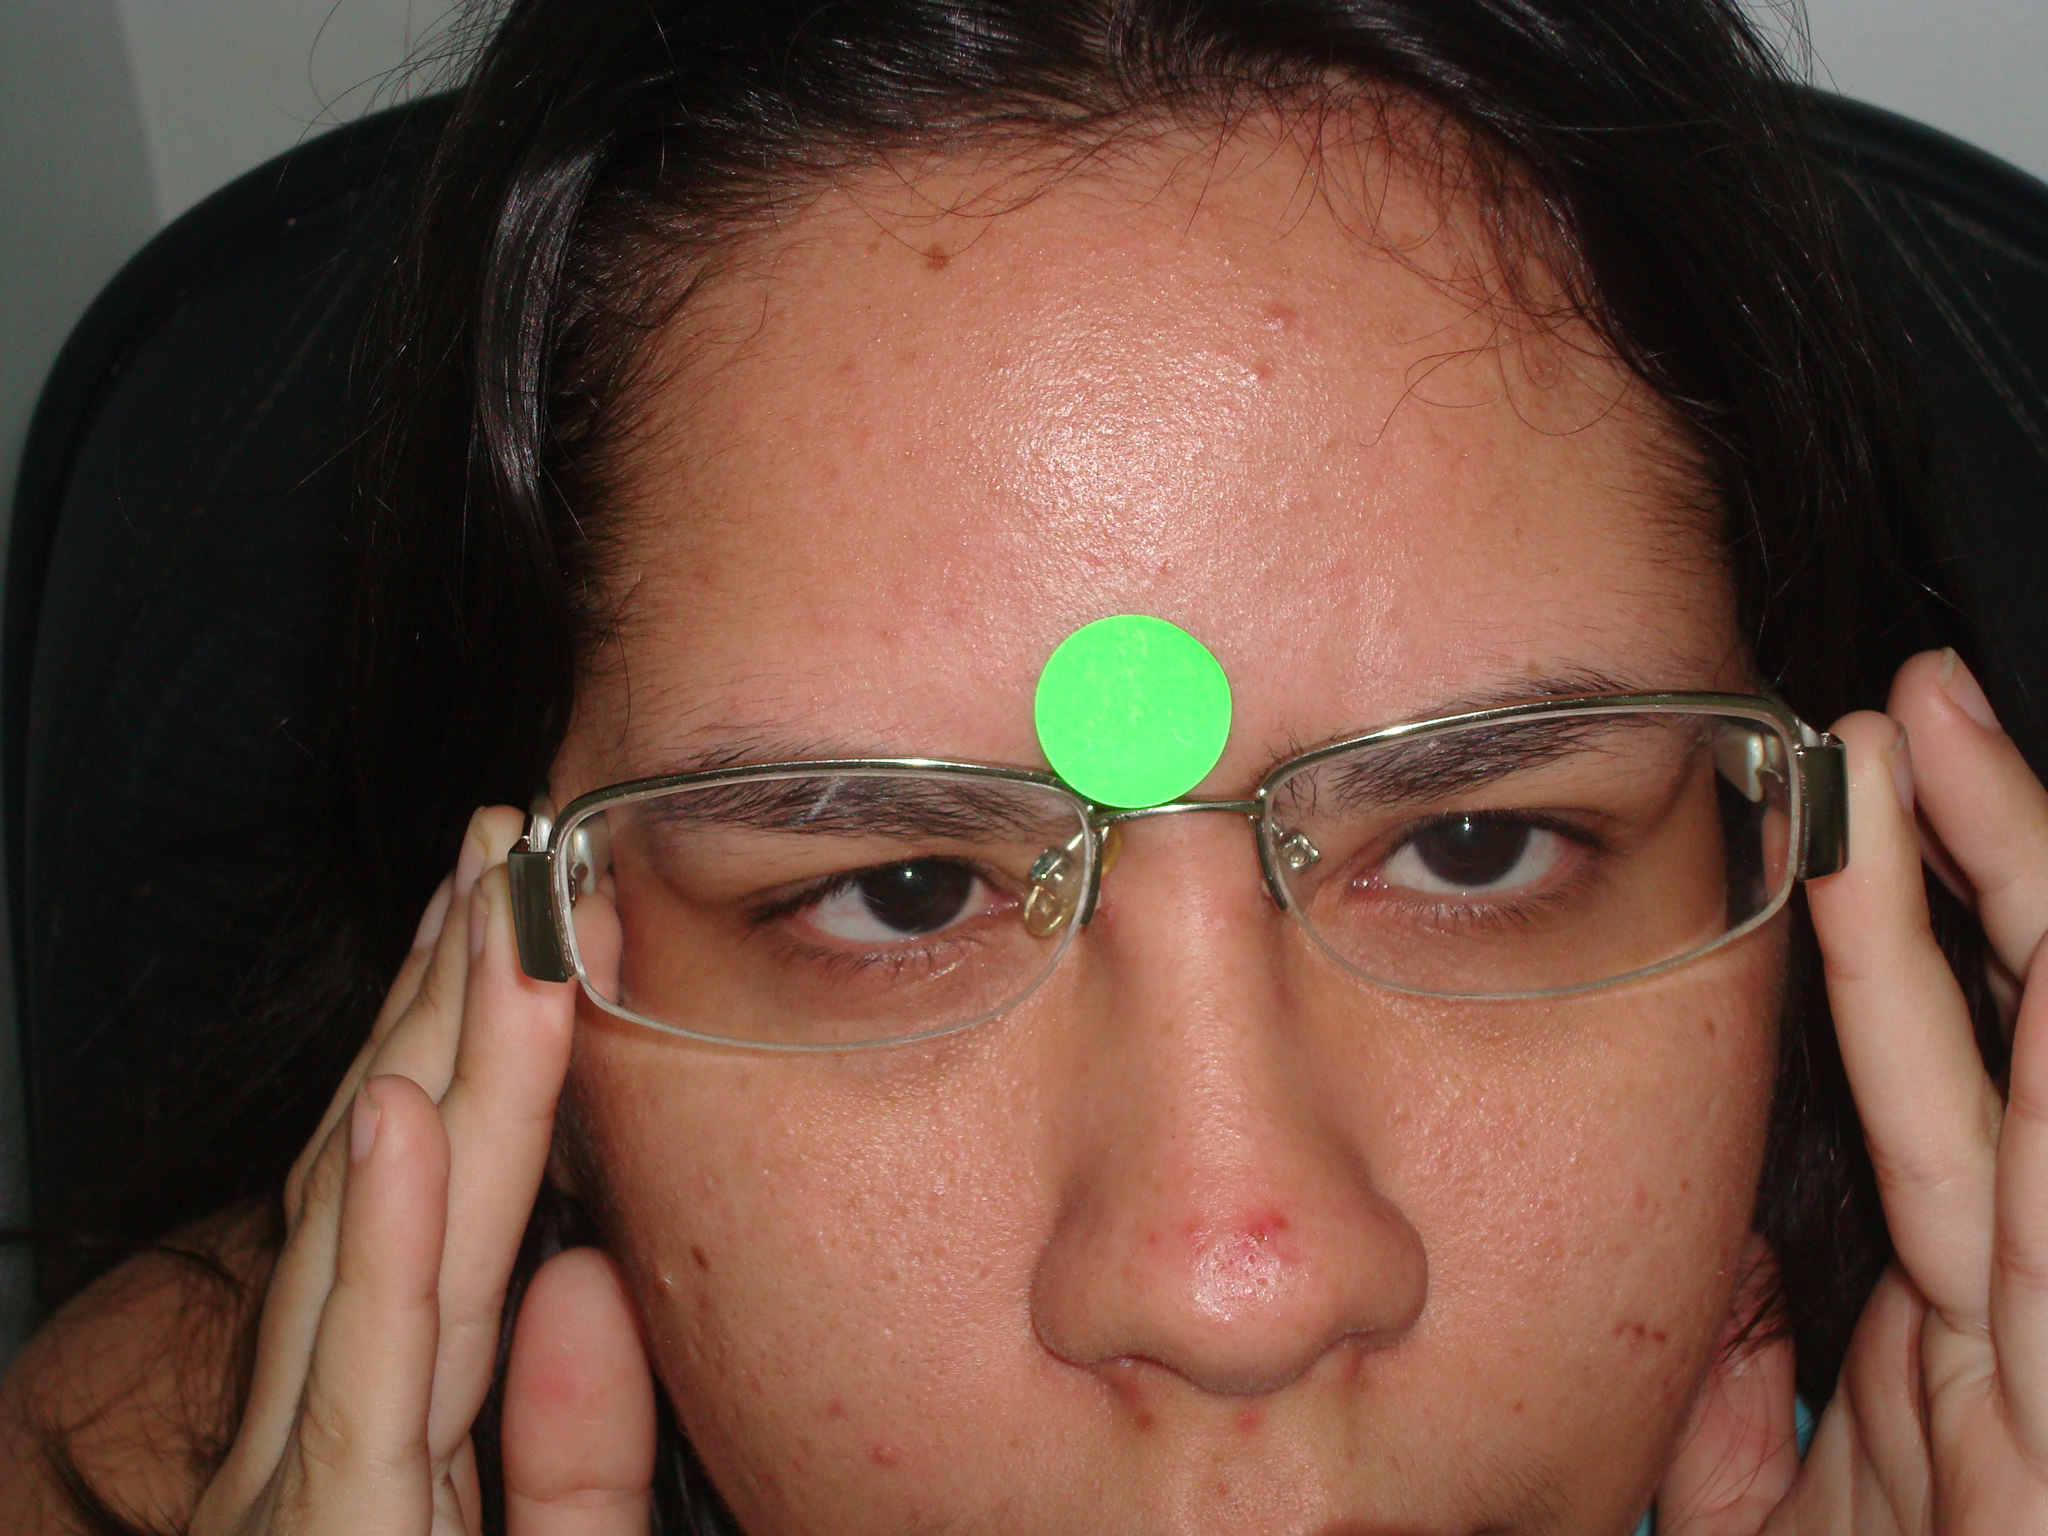flash: (1459, 816, 1477, 837), (900, 865, 916, 883)
limbo: (1419, 781, 1514, 879), (863, 834, 966, 923)
